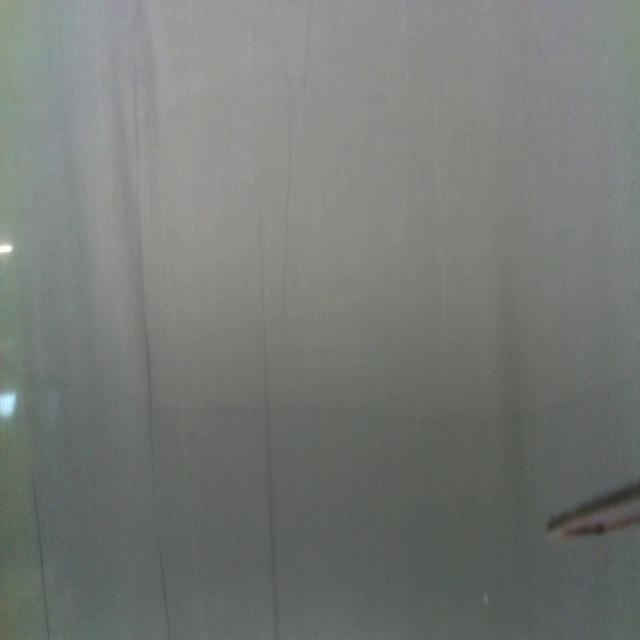color bleeding: (100, 369, 640, 434)
crease: (130, 58, 173, 640), (257, 206, 280, 640), (30, 474, 50, 640), (279, 87, 292, 330), (303, 11, 313, 102)
